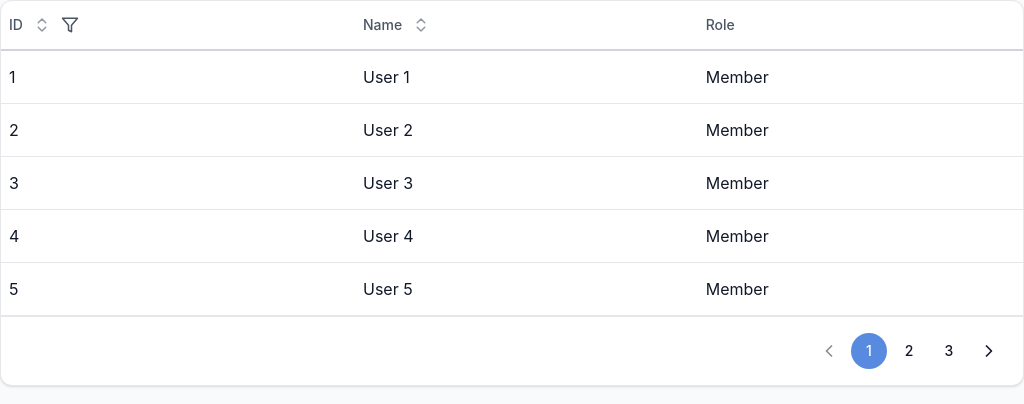
Test: DataTable Component › Pagination › paginates and navigates between pages
expect the text "User 1" is shown: met, box [363, 67, 410, 87]
expect the text "User 6" is not shown: met
Click the button "2": point(909, 351) [891, 333, 927, 369]
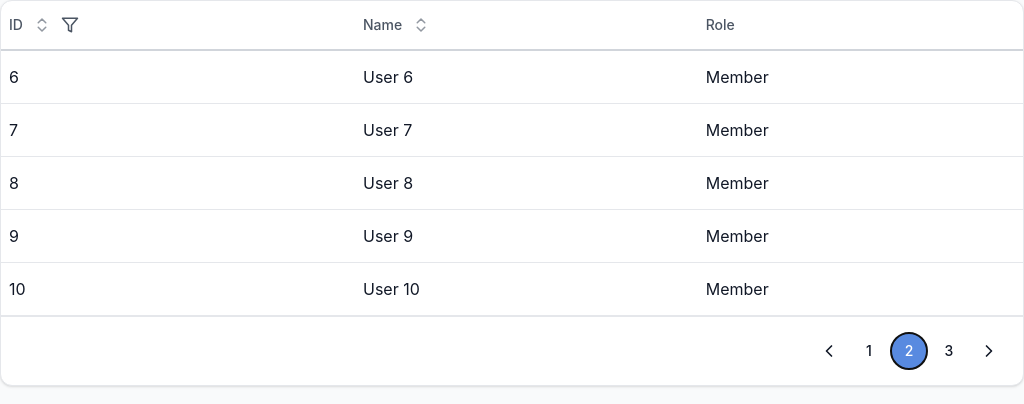
expect the text "User 6" is shown: met, box [363, 67, 413, 87]
